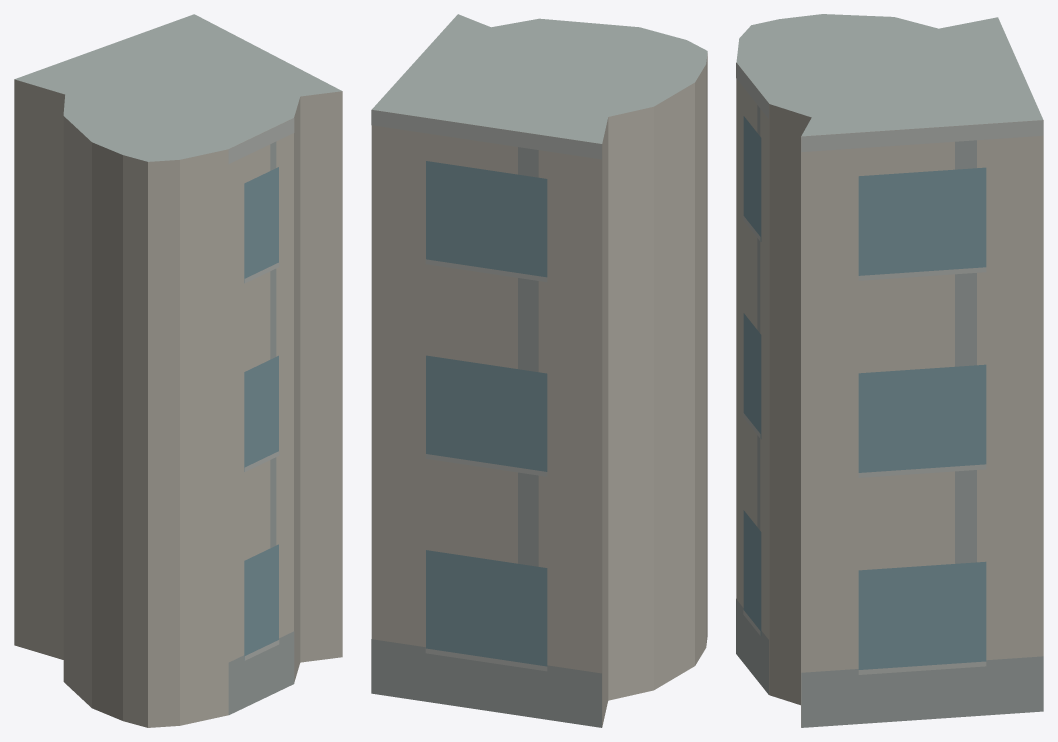
The model's file is survey-upis-32737640.glb.
3 renders of one model, left to right at view 1: azimuth 30°, elevation 25°; view 2: azimuth 150°, elevation 25°; view 3: azimuth 270°, elevation 25°, orthographic. The views are drawn at different scales.
Parts seen in each view (by area): view 1: survey-upis-32737640.tmp; view 2: survey-upis-32737640.tmp; view 3: survey-upis-32737640.tmp.
Part boxes in pixels (box(x1,y1,x2,y2)): survey-upis-32737640.tmp: box(14, 14, 342, 727); survey-upis-32737640.tmp: box(371, 14, 707, 727); survey-upis-32737640.tmp: box(736, 14, 1043, 727).
Bounding box in the file's own units: 4.07 × 9.15 × 4.32.
